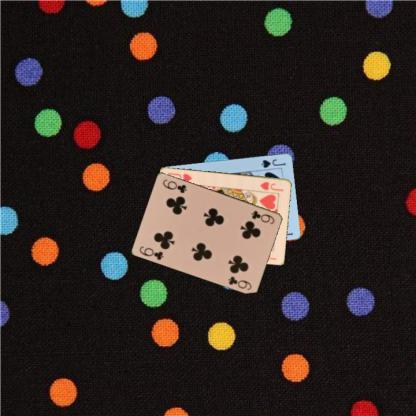6c: (137, 243, 165, 261), (249, 208, 276, 225)
Jh: (258, 179, 284, 193)
Js: (259, 156, 286, 168)
